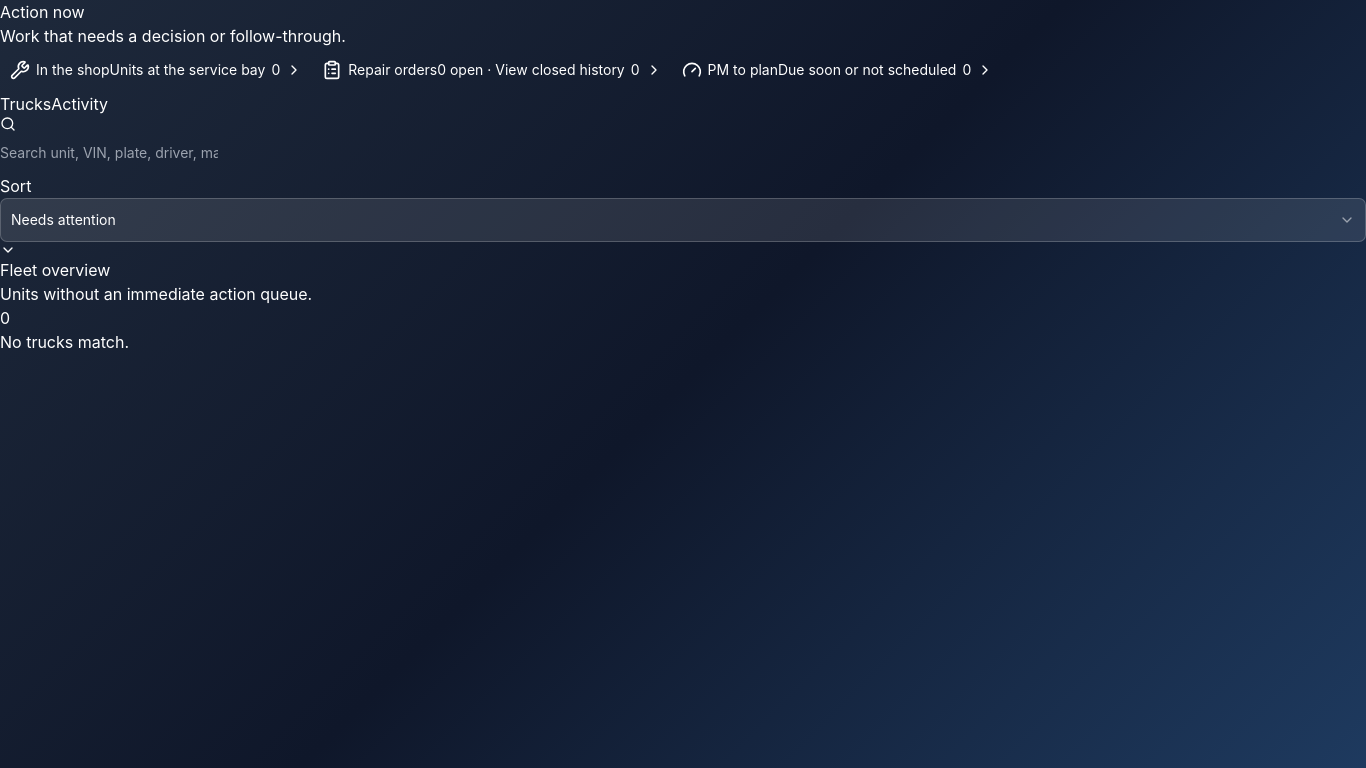
Test: offers one repair-order entry and keeps age separate from Open/Closed state
Click the tab "Activity" at (80, 104), box [51, 92, 108, 116]
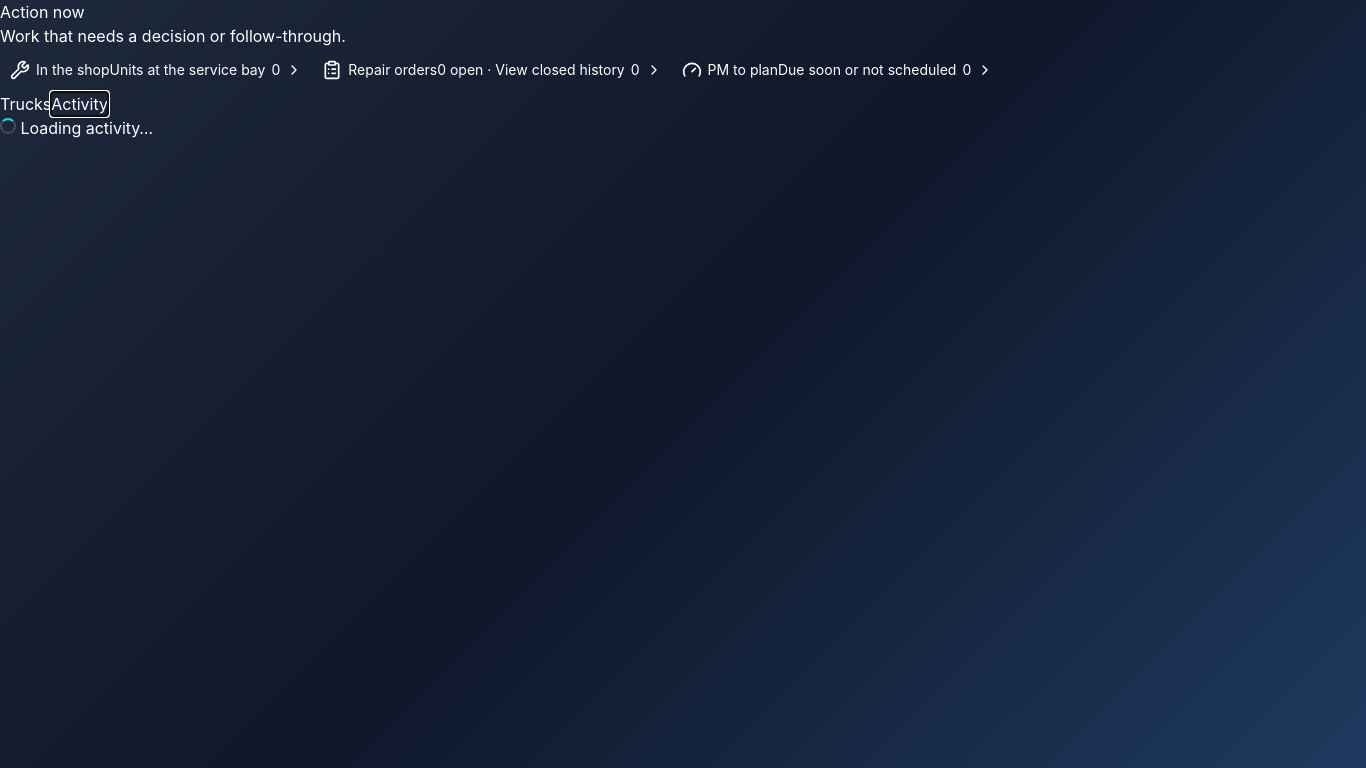
Click the button "Repair orders0 open · View closed history 0" at (492, 70), box [312, 48, 672, 92]
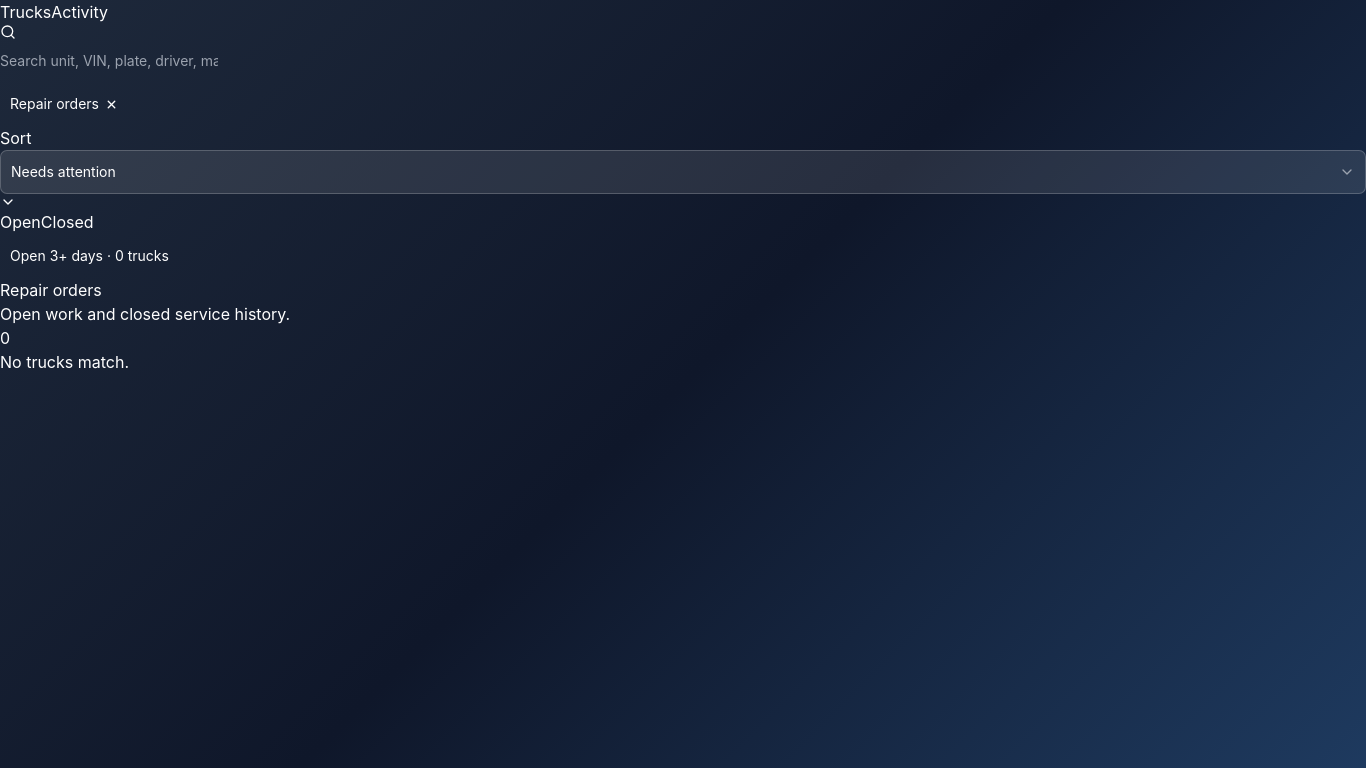
Click the button "Open 3+ days · 0 trucks" at (89, 256), box [0, 234, 179, 278]
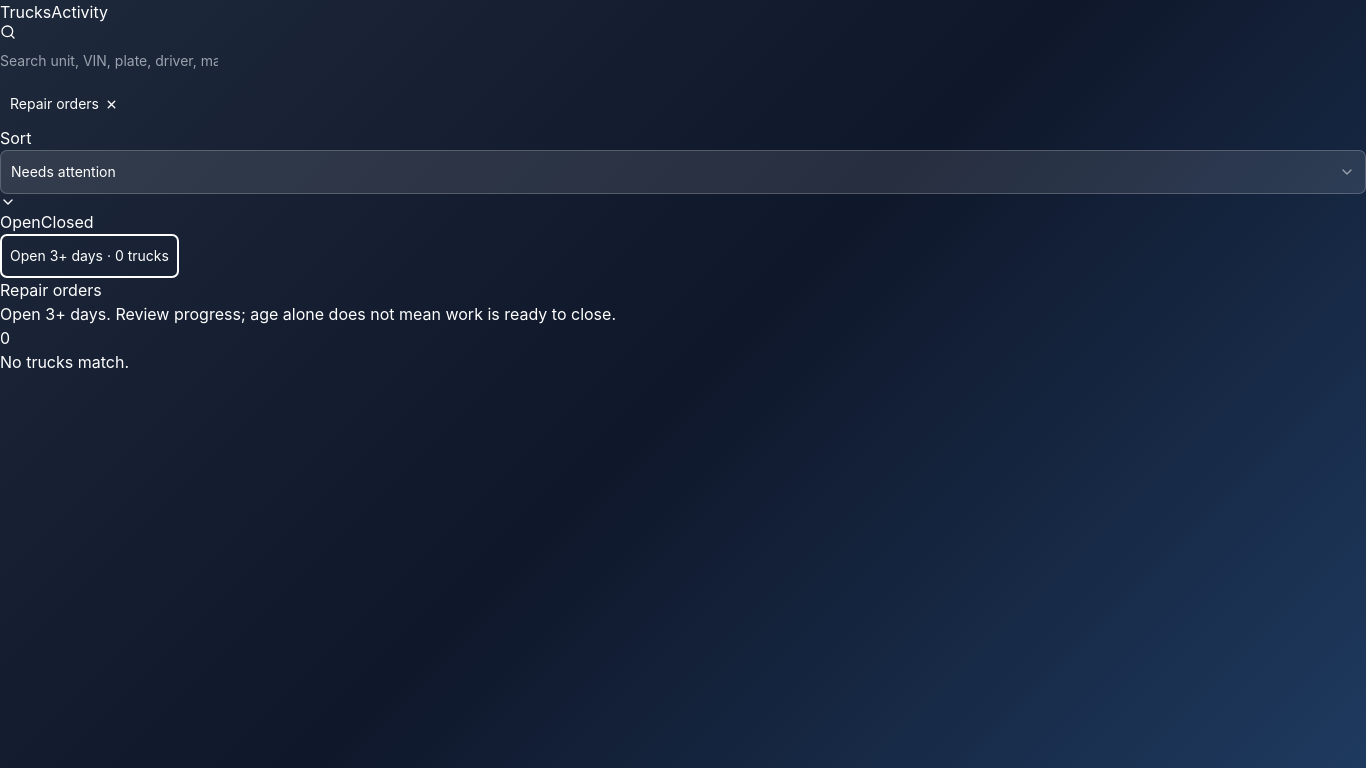
Click the tab "Closed" at (67, 222), box [41, 210, 94, 234]
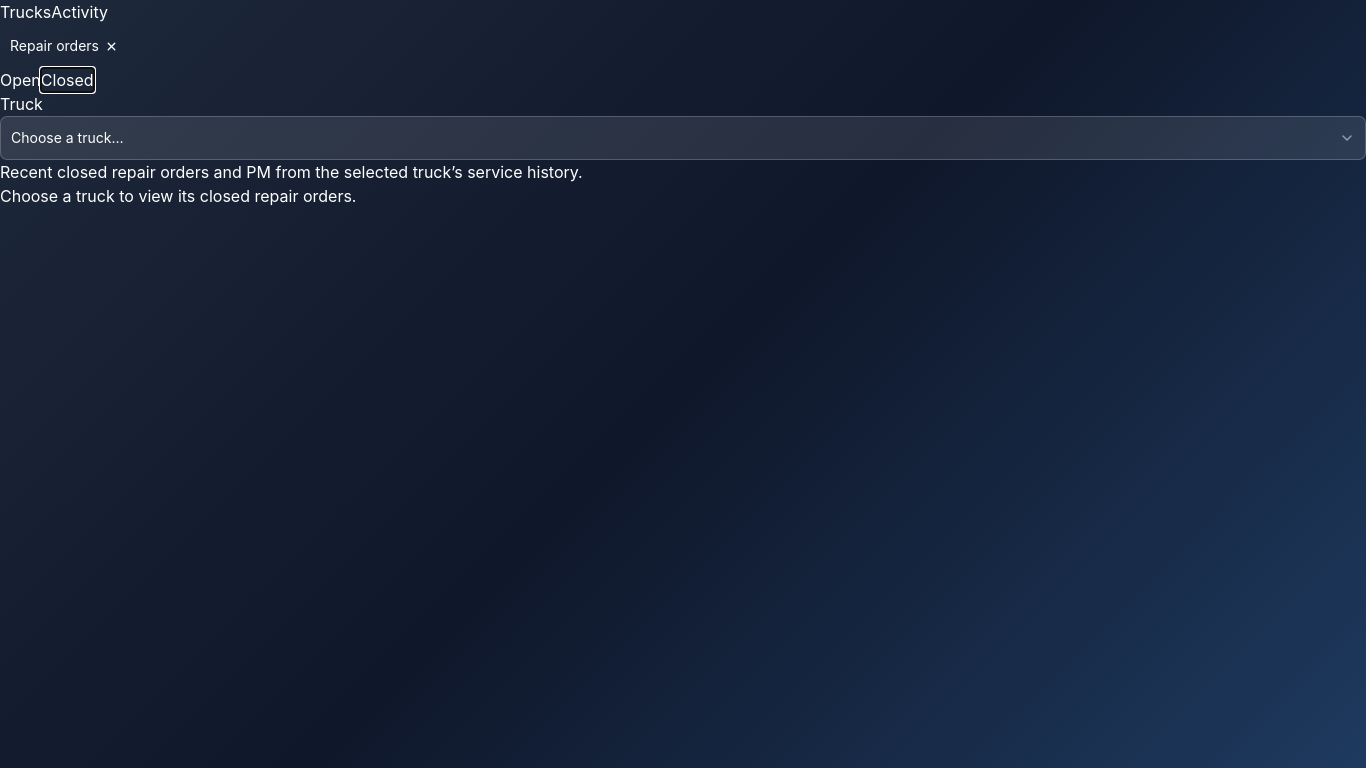
Expected: the dropdown labelled "truck" is shown, [0, 116, 1365, 160]
Expected: the button "Open 3+ days" is gone
